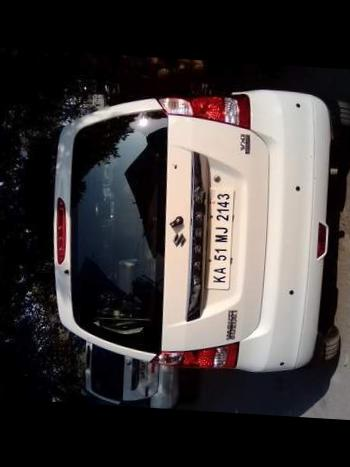plate: (202, 180, 244, 291)
